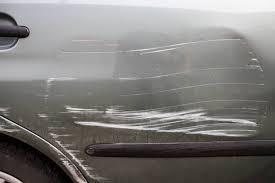scratch: (0, 26, 274, 182)
